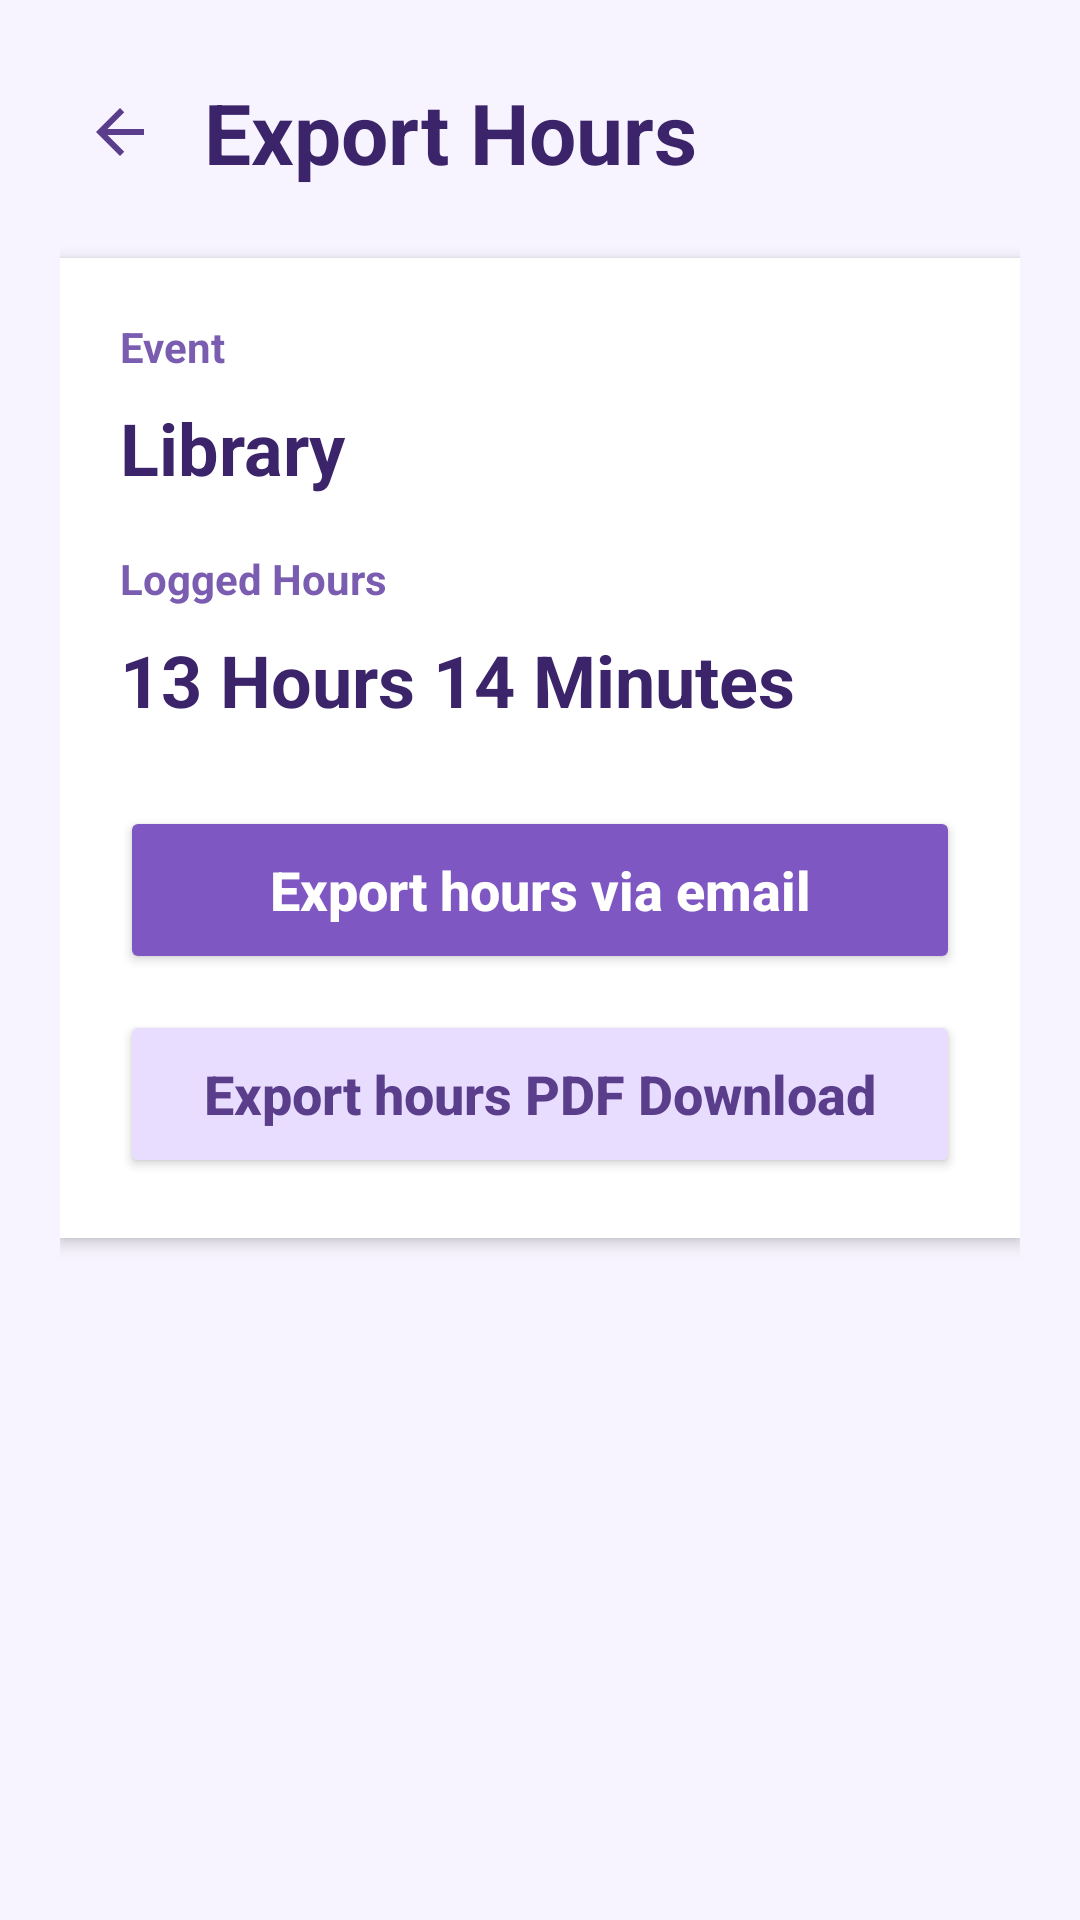

Named icons in this screenshot (1080px x 1920px) and their bounding boxes, (x1, y1, x2, y2):
Back: (96, 108, 144, 156)
